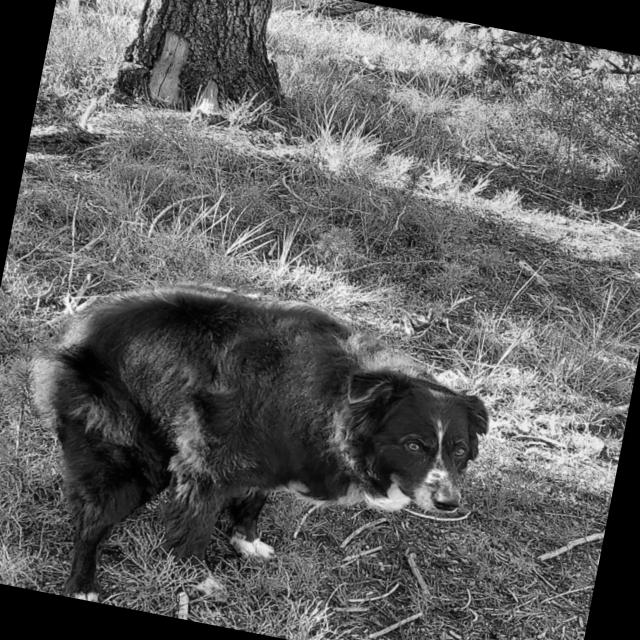squatting: (0, 247, 531, 640)
